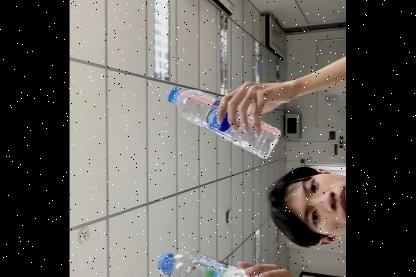Plastic Bottle: (166, 83, 282, 160), (154, 249, 292, 277)
